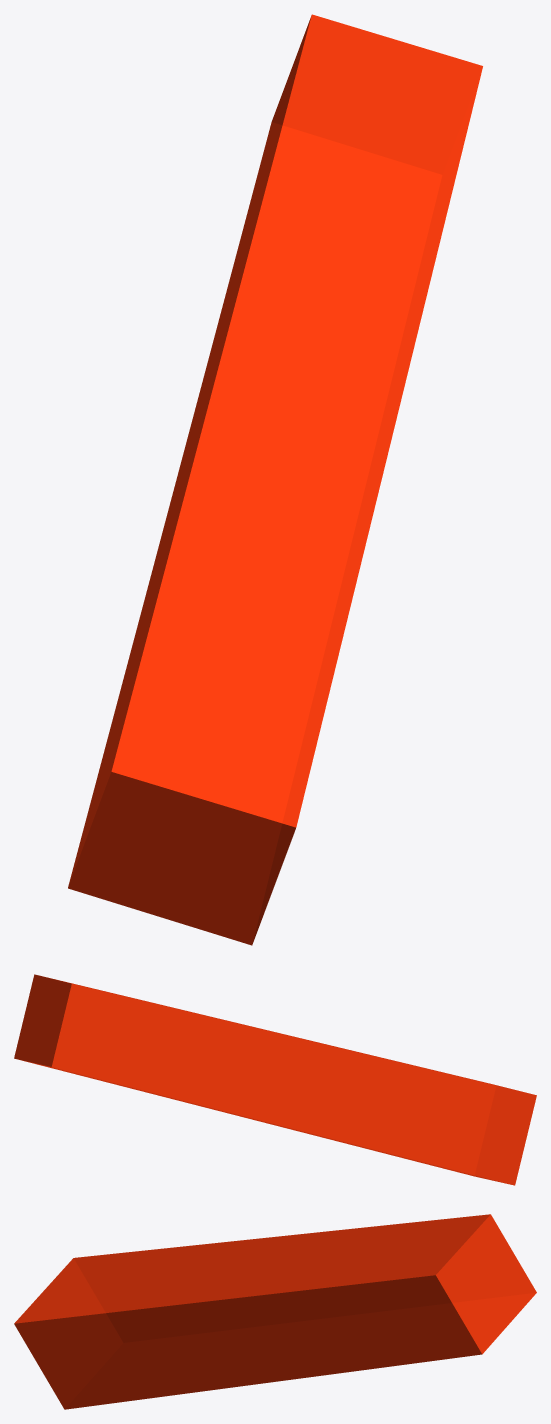
The model's file is Event_421556567_EBrechit_0.fbx.
3 views of the same model, one above another, from view 1: azimuth 30°, elevation 25°; view 2: azimuth 150°, elevation 25°; view 3: azimuth 270°, elevation 25° (orthographic). The views are drawn at different scales.
Visible parts, largest first — view 1: Model; view 2: Model; view 3: Model.
Boxes of the visible parts, x1,y1,x2,y2 form: Model: (68, 14, 482, 945); Model: (14, 974, 536, 1185); Model: (14, 1214, 536, 1409).
Size of the model in its own units: 0.2565 by 0.1968 by 0.2951.
